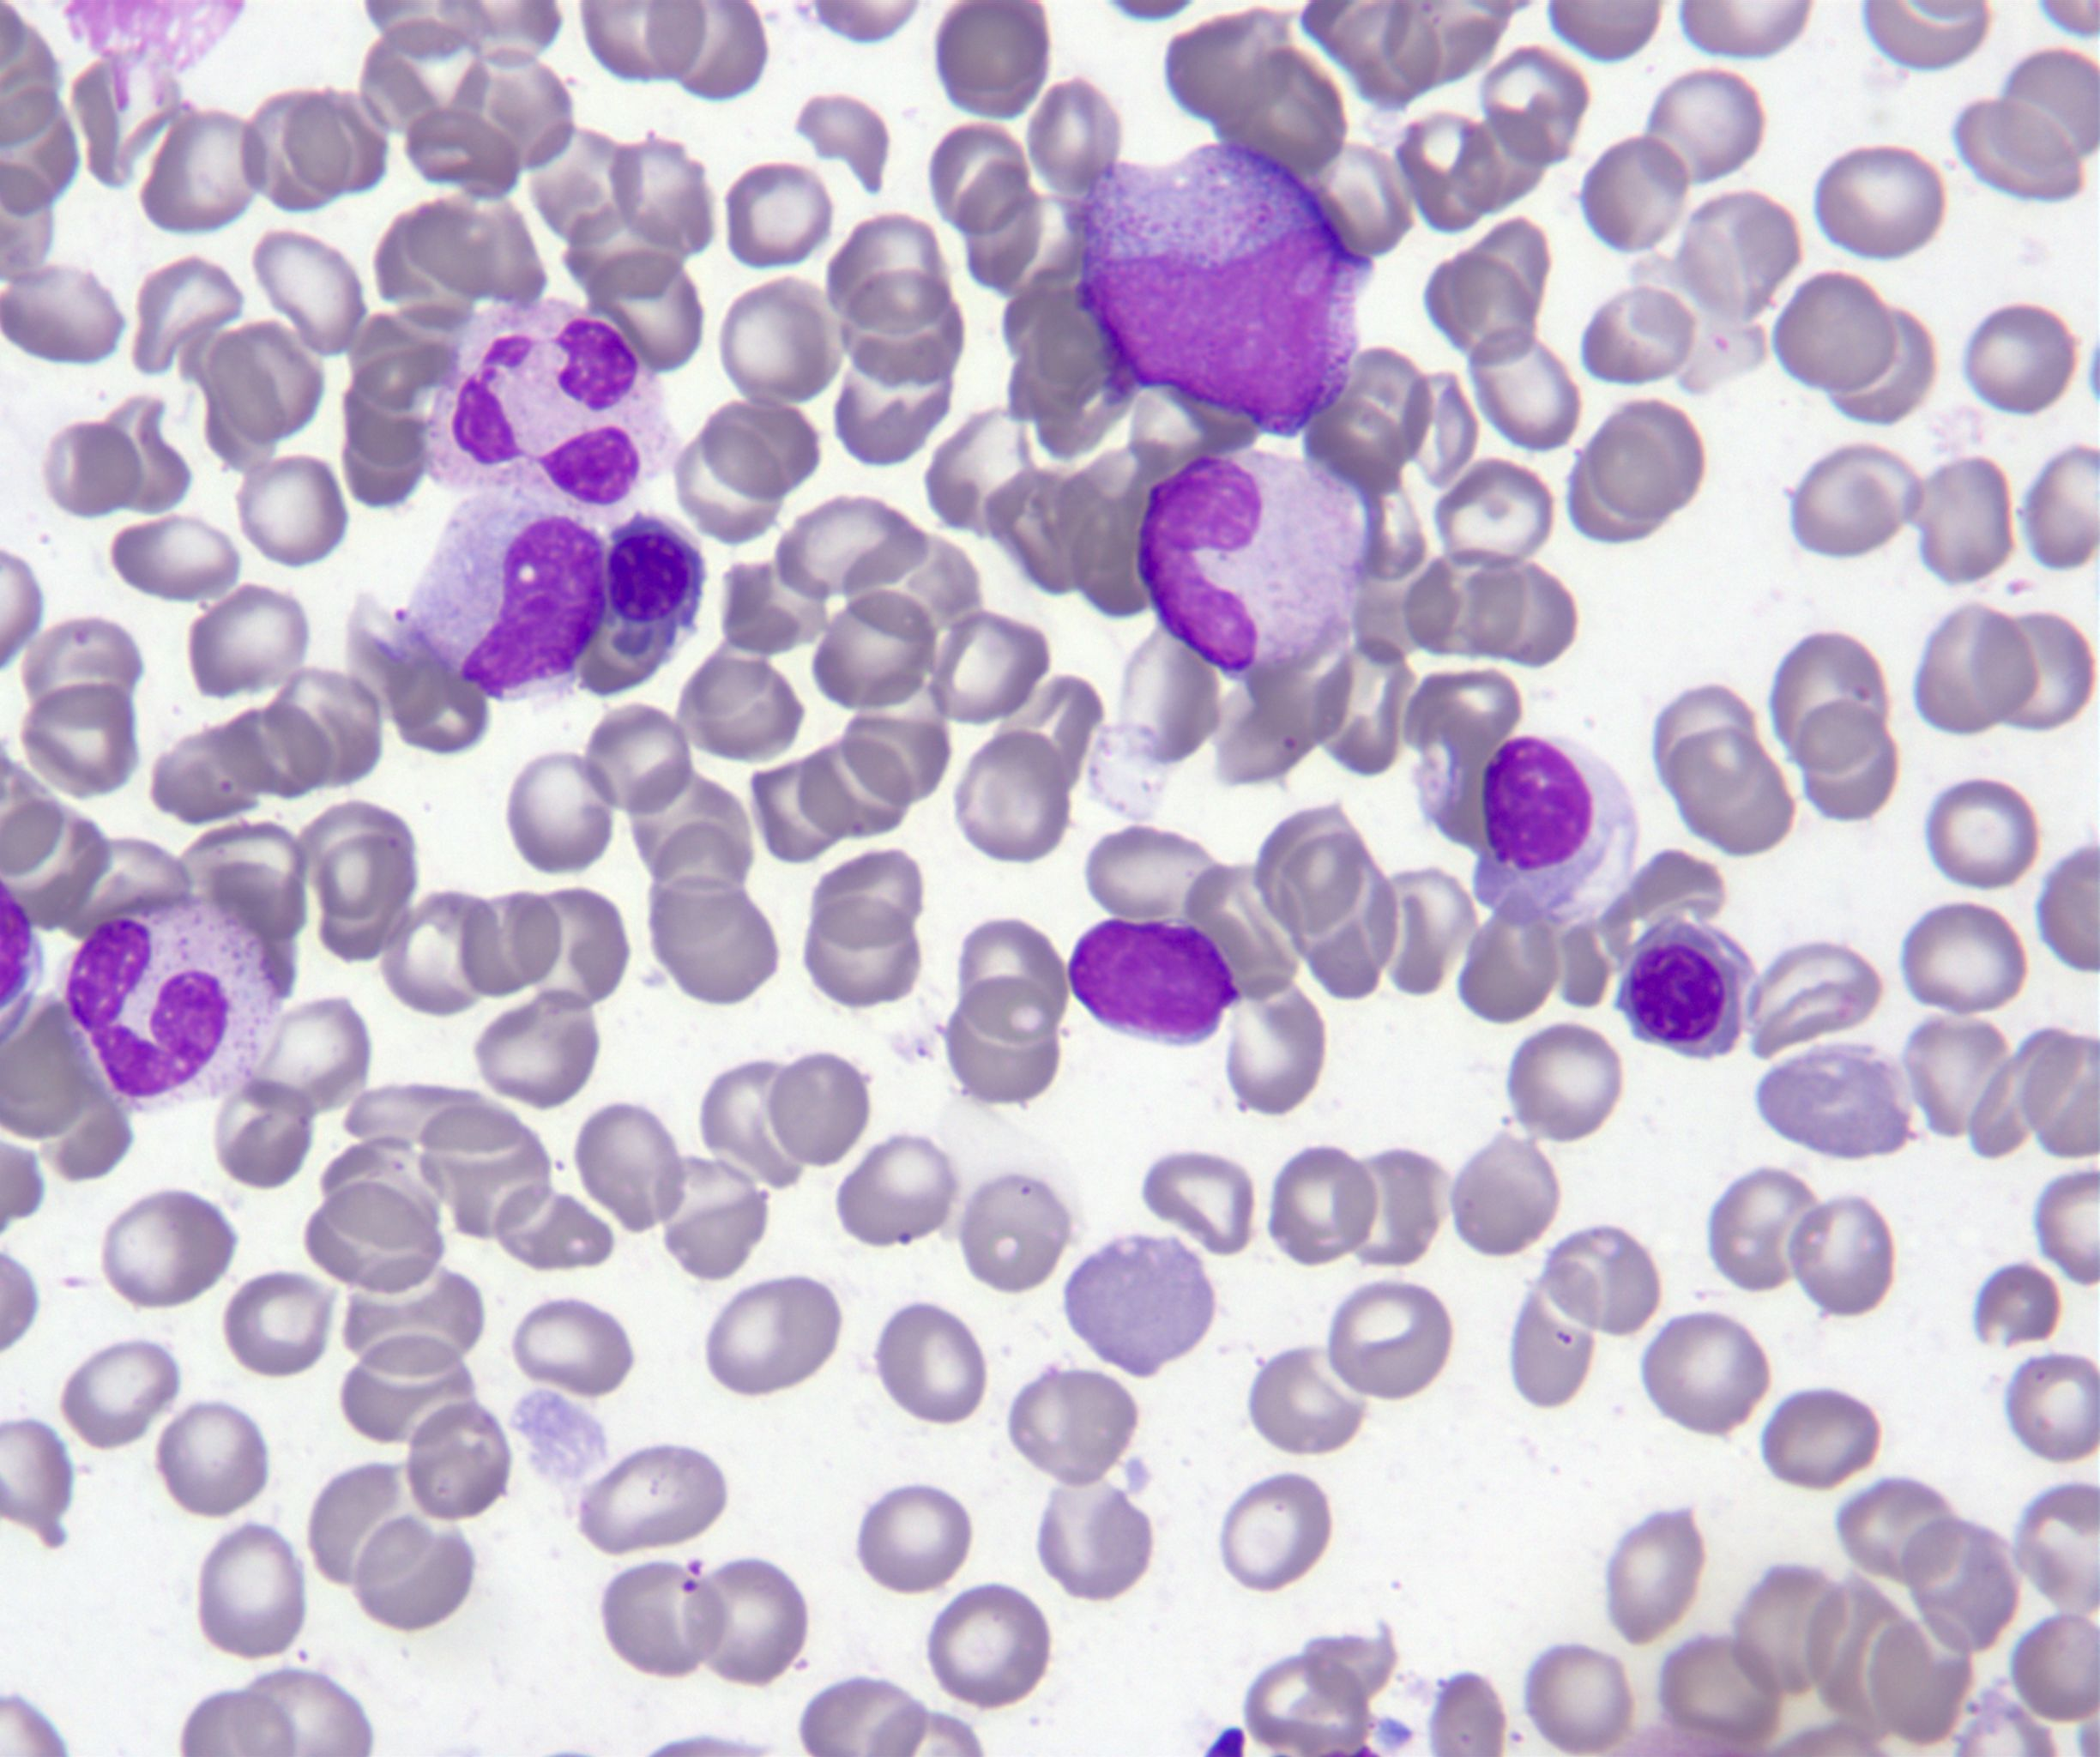2: (1076, 143, 1373, 436)
23: (1474, 736, 1640, 923), (598, 509, 706, 654)
24: (1617, 916, 1755, 1061)
32: (1069, 920, 1240, 1045)
5: (1137, 448, 1364, 682), (59, 899, 279, 1108)
6: (424, 297, 678, 522)
x: (406, 492, 607, 701)
